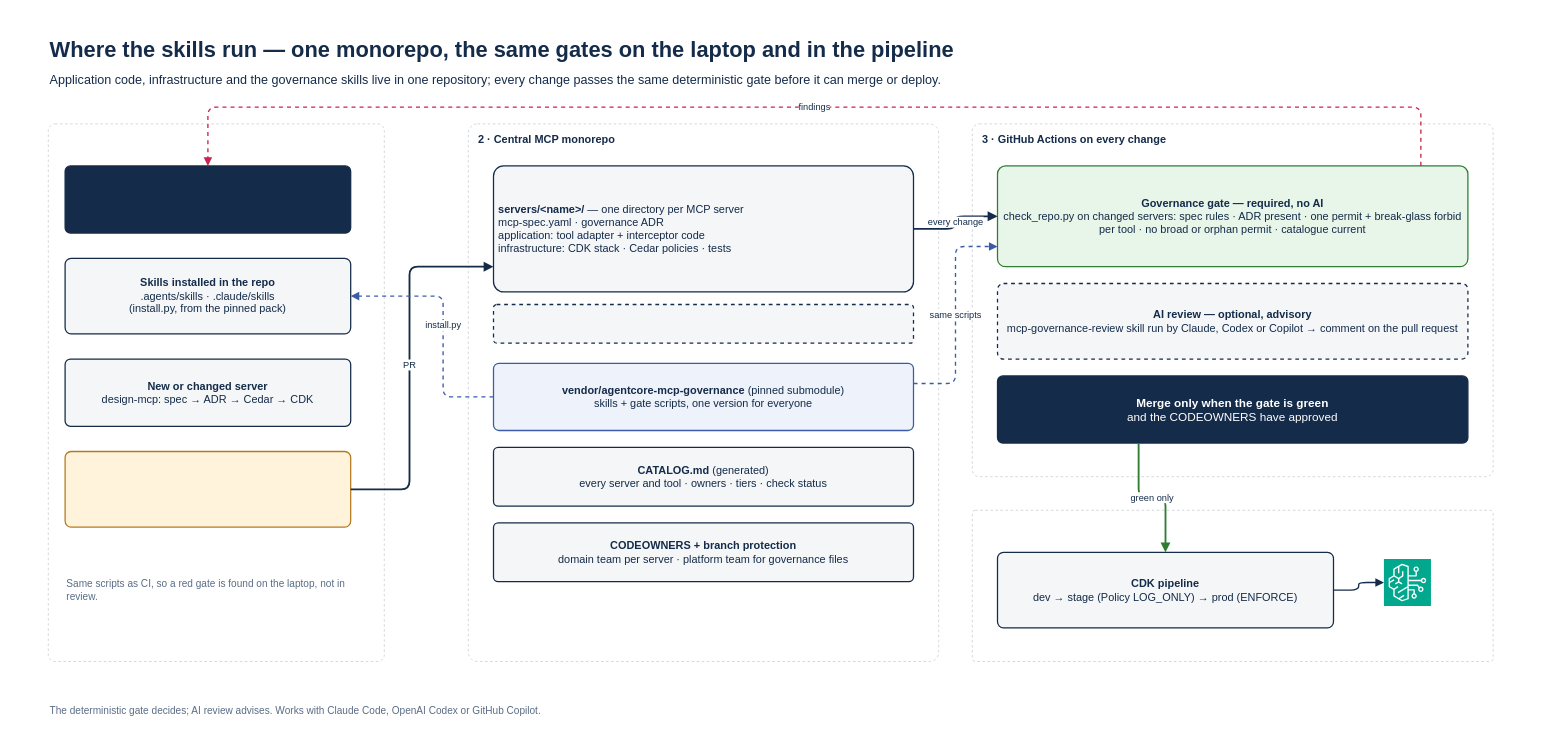
Image size: 1541x751. Some labels were removed from this diagram. Each missing label, with the box of its shape:
1 · Developer workstation: (47, 123, 384, 662)
4 · Delivery: (971, 509, 1493, 662)
AgentCore Gateway: (1383, 558, 1431, 606)
Before every push mcp-repo-compliance skill → check_repo.py on changed servers: (64, 450, 351, 527)
Engineer + coding agent Claude Code · OpenAI Codex · GitHub Copilot: (64, 165, 351, 233)
servers/<another>/ · servers/<…>/: (492, 303, 914, 343)
